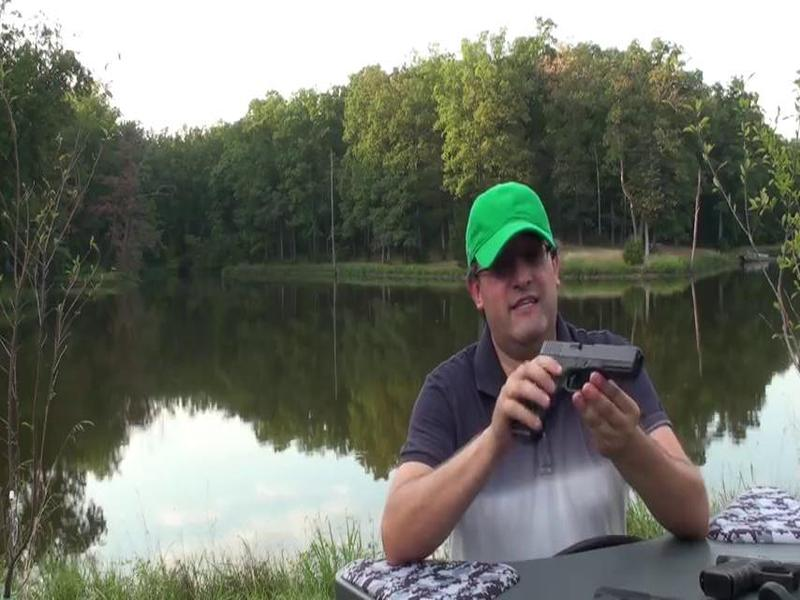Pistola: (498, 314, 641, 466)
